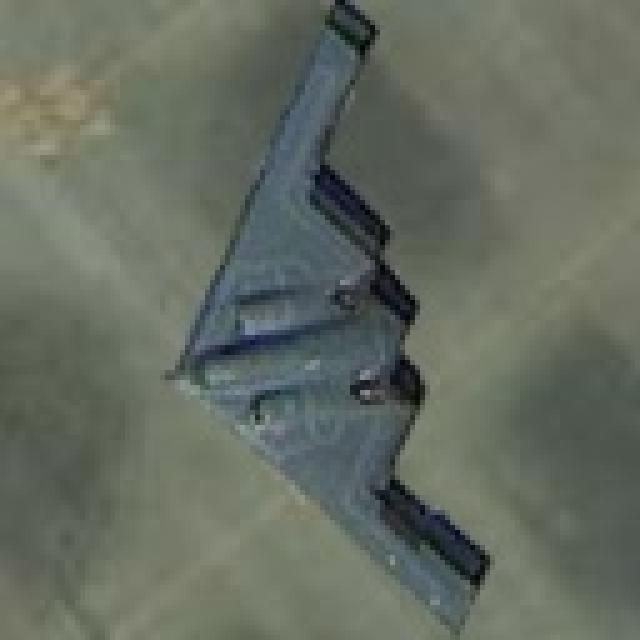B-2_TopDown: (160, 0, 495, 635)
